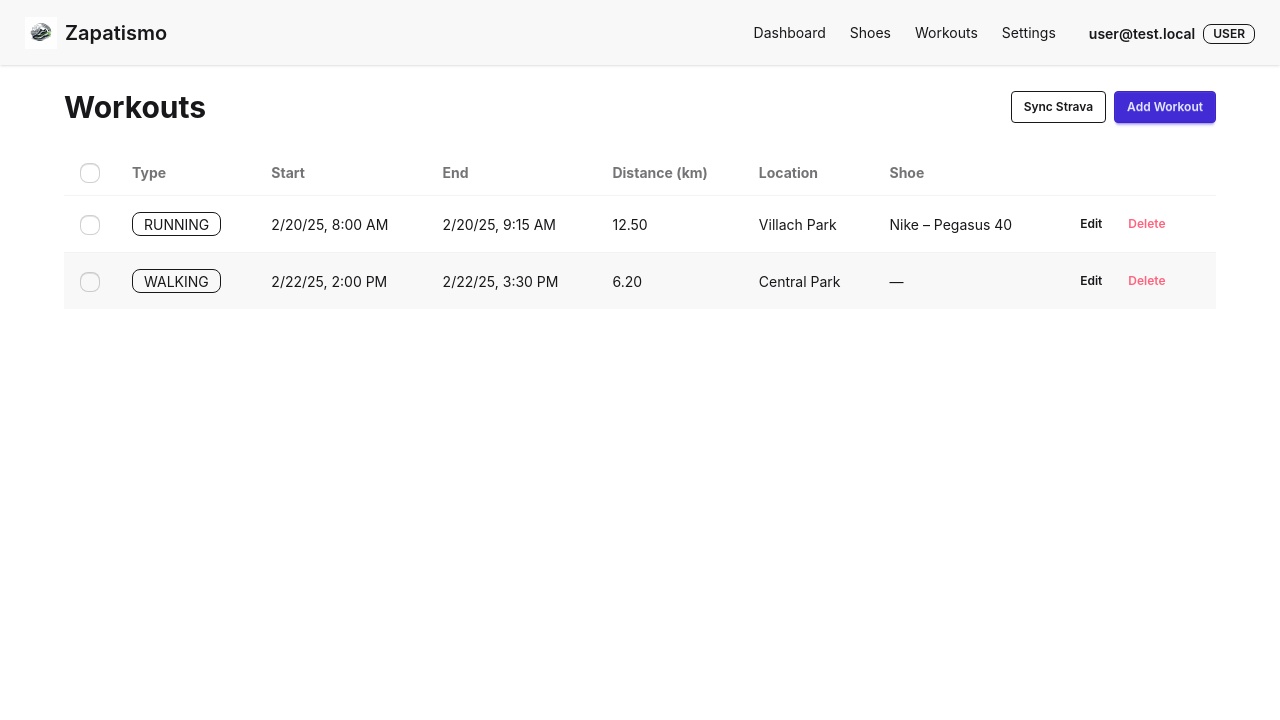
it: Workouts › e2e › fixtures › sync modal shows warnings when user has no default running or walking shoe
The image size is (1280, 720).
Click the button with test id "sync-strava": (1059, 107) [1011,91,1107,123]
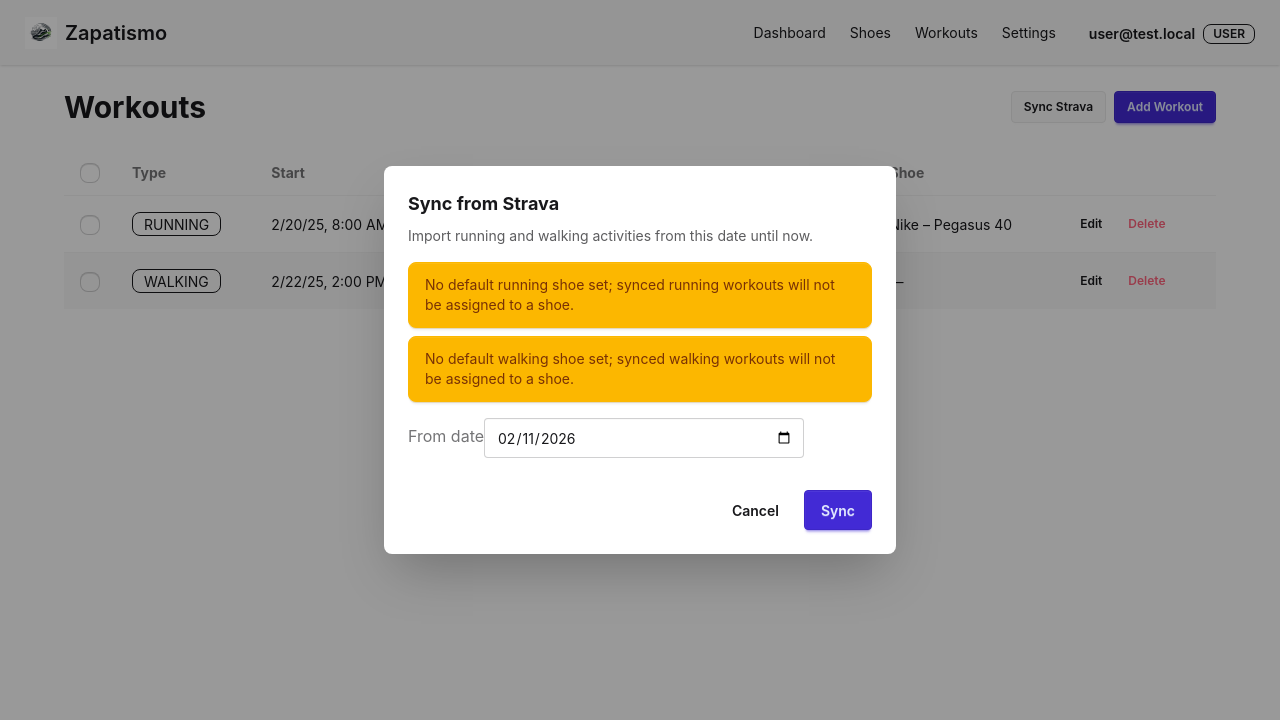
Check: the dialog with test id "sync-strava-modal" is shown
Check: the message with test id "sync-no-default-running-shoe-warning" is shown, box [408,262,872,328]
Check: the text with test id "sync-no-default-running-shoe-warning" shows "No default running shoe set", box [425,276,835,313]
